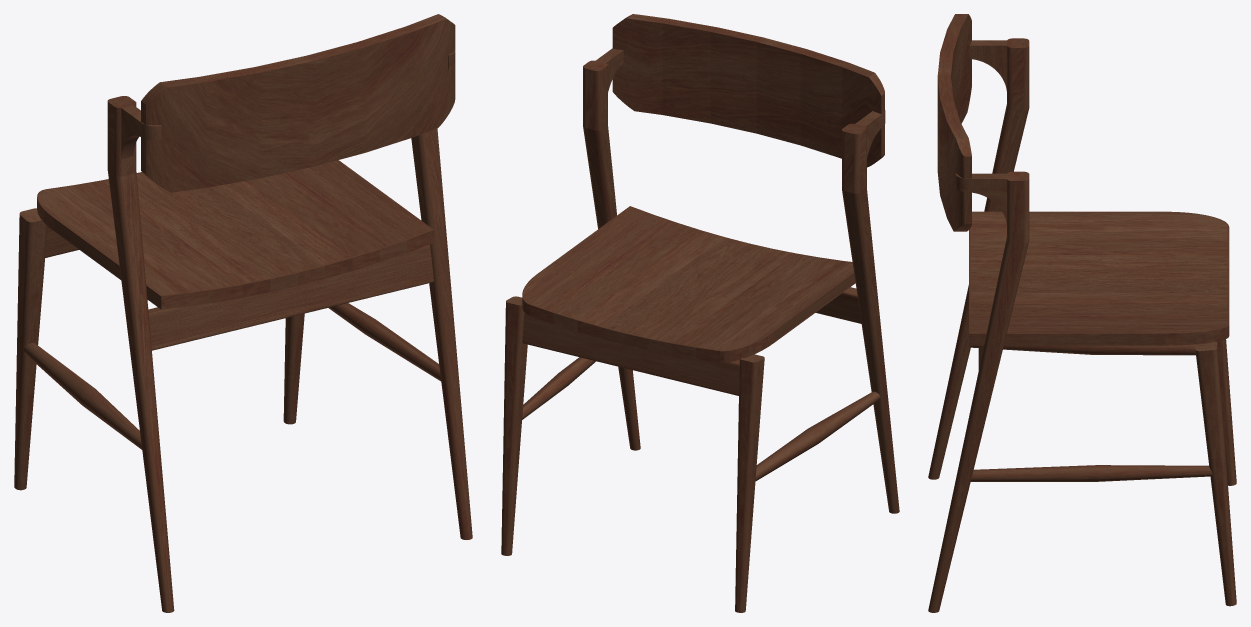
Rendered from meadowcroft_chair.glb.
3 renders of one model, left to right at view 1: azimuth 30°, elevation 25°; view 2: azimuth 150°, elevation 25°; view 3: azimuth 270°, elevation 25°, orthographic. The views are drawn at different scales.
Parts seen in each view (by area): view 1: Back, Seat, Leg-BR, Stretcher-B, Leg-BL, Leg-FR, Stretcher-R, Stretcher-L, Leg-FL, BackConnect-R; view 2: Seat, Back, Leg-BR, Stretcher-F, Leg-BL, Leg-FR, Leg-FL, Stretcher-R, Stretcher-L, Stretcher-B, BackConnect-R; view 3: Seat, Leg-BL, Back, Leg-BR, Leg-FL, Stretcher-L, Stretcher-R, Leg-FR, BackConnect-L, BackConnect-R.
Boxes of the visible parts, x1,y1,x2,y2 form: Back: [141, 14, 455, 192]; Seat: [37, 160, 434, 309]; Leg-BR: [107, 96, 174, 612]; Stretcher-B: [148, 245, 433, 350]; Leg-BL: [411, 128, 472, 539]; Leg-FR: [14, 208, 47, 490]; Stretcher-R: [23, 343, 142, 449]; Stretcher-L: [328, 303, 441, 381]; Leg-FL: [283, 313, 304, 424]; BackConnect-R: [121, 104, 161, 159]; Seat: [522, 206, 855, 362]; Back: [612, 14, 884, 167]; Leg-BR: [842, 123, 899, 513]; Stretcher-F: [522, 312, 739, 395]; Leg-BL: [583, 60, 640, 450]; Leg-FR: [735, 354, 764, 612]; Leg-FL: [501, 296, 527, 555]; Stretcher-R: [755, 391, 880, 481]; Stretcher-L: [522, 357, 595, 419]; Stretcher-B: [815, 287, 871, 325]; BackConnect-R: [849, 110, 885, 157]; Seat: [969, 211, 1229, 345]; Leg-BL: [928, 171, 1029, 612]; Back: [937, 14, 971, 231]; Leg-BR: [928, 38, 1029, 479]; Leg-FL: [1195, 341, 1236, 606]; Stretcher-L: [970, 465, 1212, 481]; Stretcher-R: [970, 344, 1195, 355]; Leg-FR: [1217, 339, 1236, 485]; BackConnect-L: [955, 173, 1018, 224]; BackConnect-R: [969, 40, 1006, 90].
Bounding box in the file's own units: 0.4821 × 0.7378 × 0.4408.
2 materials, 2 textured.
